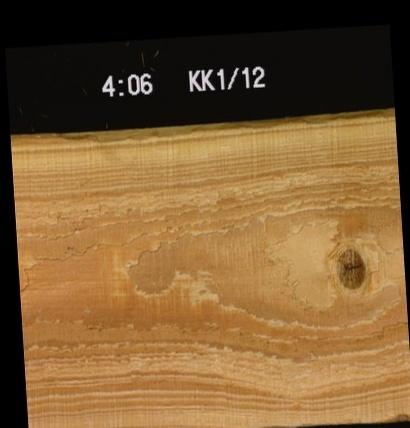sound_knot: (333, 245, 368, 290)
wave: (9, 114, 394, 138)
